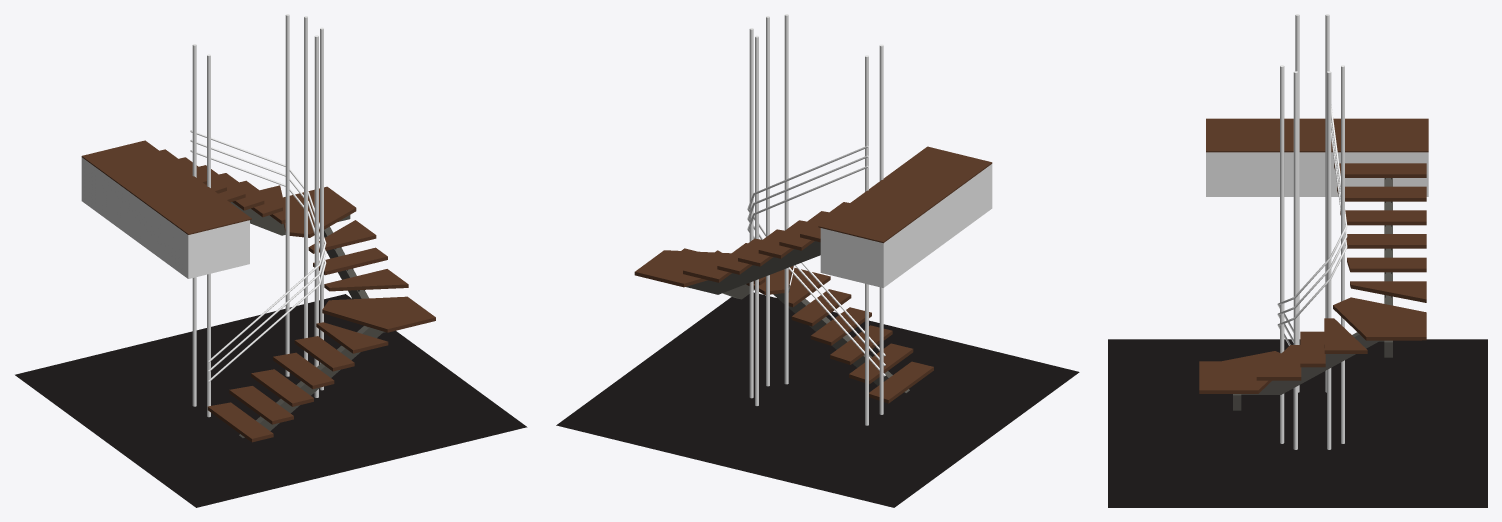
The picture shows the model from 3 angles, left to right: view 1: azimuth 30°, elevation 25°; view 2: azimuth 150°, elevation 25°; view 3: azimuth 270°, elevation 25°; orthographic projection. The views are drawn at different scales.
Visible parts, largest first — view 1: Plane001, Box001, Circle001, Line016, Line026, Line025, Line004, Line019, Line006, Line008, Line010, Line012 (+8 smaller); view 2: Plane001, Box001, Circle001, Line026, Line025, Line002, Line004, Line006, Line012, Line010, Line008, Line014 (+4 smaller); view 3: Plane001, Box001, Circle001, Line026, Line025, Line016, Line003, Line019, Line023, Line021, Line002, Line040 (+2 smaller).
Boxes of the visible parts, <box> form: Plane001: <box>15,294,527,507</box>; Box001: <box>81,140,251,278</box>; Circle001: <box>192,14,323,417</box>; Line016: <box>322,296,435,332</box>; Line026: <box>160,149,285,224</box>; Line025: <box>283,186,356,237</box>; Line004: <box>207,402,273,442</box>; Line019: <box>324,269,408,291</box>; Line006: <box>229,386,293,424</box>; Line008: <box>251,369,313,406</box>; Line010: <box>273,352,334,389</box>; Line012: <box>294,336,354,371</box>; Plane001: <box>556,292,1079,507</box>; Box001: <box>818,146,992,287</box>; Circle001: <box>749,14,883,425</box>; Line026: <box>683,202,849,282</box>; Line025: <box>634,250,733,287</box>; Line002: <box>686,241,820,294</box>; Line004: <box>869,361,933,403</box>; Line006: <box>849,343,913,384</box>; Line012: <box>791,289,851,326</box>; Line010: <box>810,307,871,345</box>; Line008: <box>830,325,892,364</box>; Line014: <box>788,268,830,307</box>; Plane001: <box>1108,339,1487,507</box>; Box001: <box>1206,118,1428,196</box>; Circle001: <box>1280,14,1344,449</box>; Line026: <box>1334,163,1426,302</box>; Line025: <box>1333,297,1426,340</box>; Line016: <box>1199,351,1280,393</box>; Line003: <box>1241,332,1384,394</box>; Line019: <box>1256,344,1301,380</box>; Line023: <box>1324,318,1367,353</box>; Line021: <box>1300,331,1325,367</box>; Line002: <box>1384,178,1392,357</box>; Line040: <box>1277,104,1347,332</box>.
Size of the model in its own units: 4.75 by 5.12 by 4.51.
